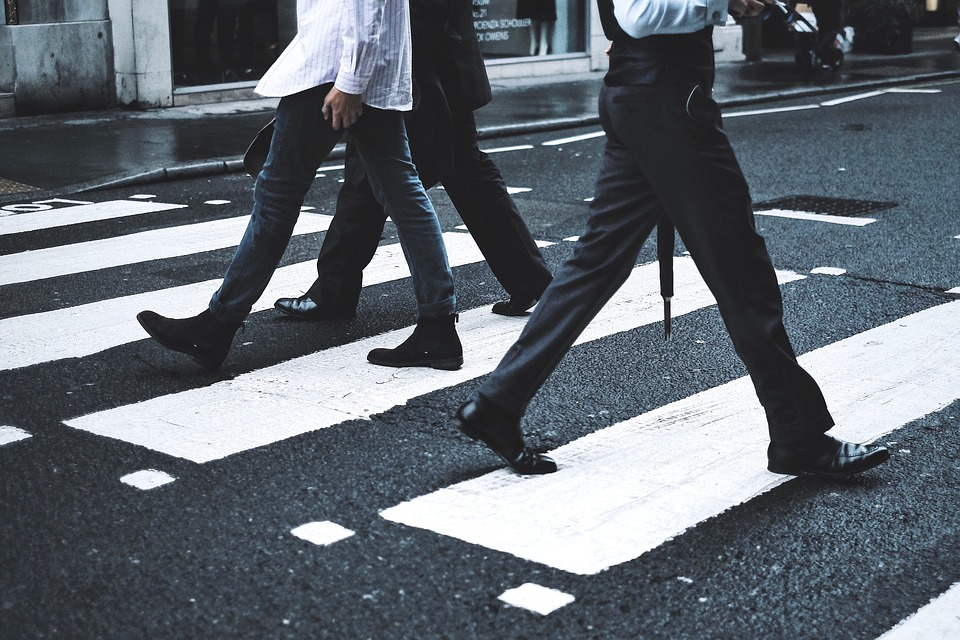pedestrian: (469, 1, 900, 483), (125, 1, 475, 391)
